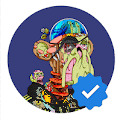fraud: (72, 73, 108, 111)
